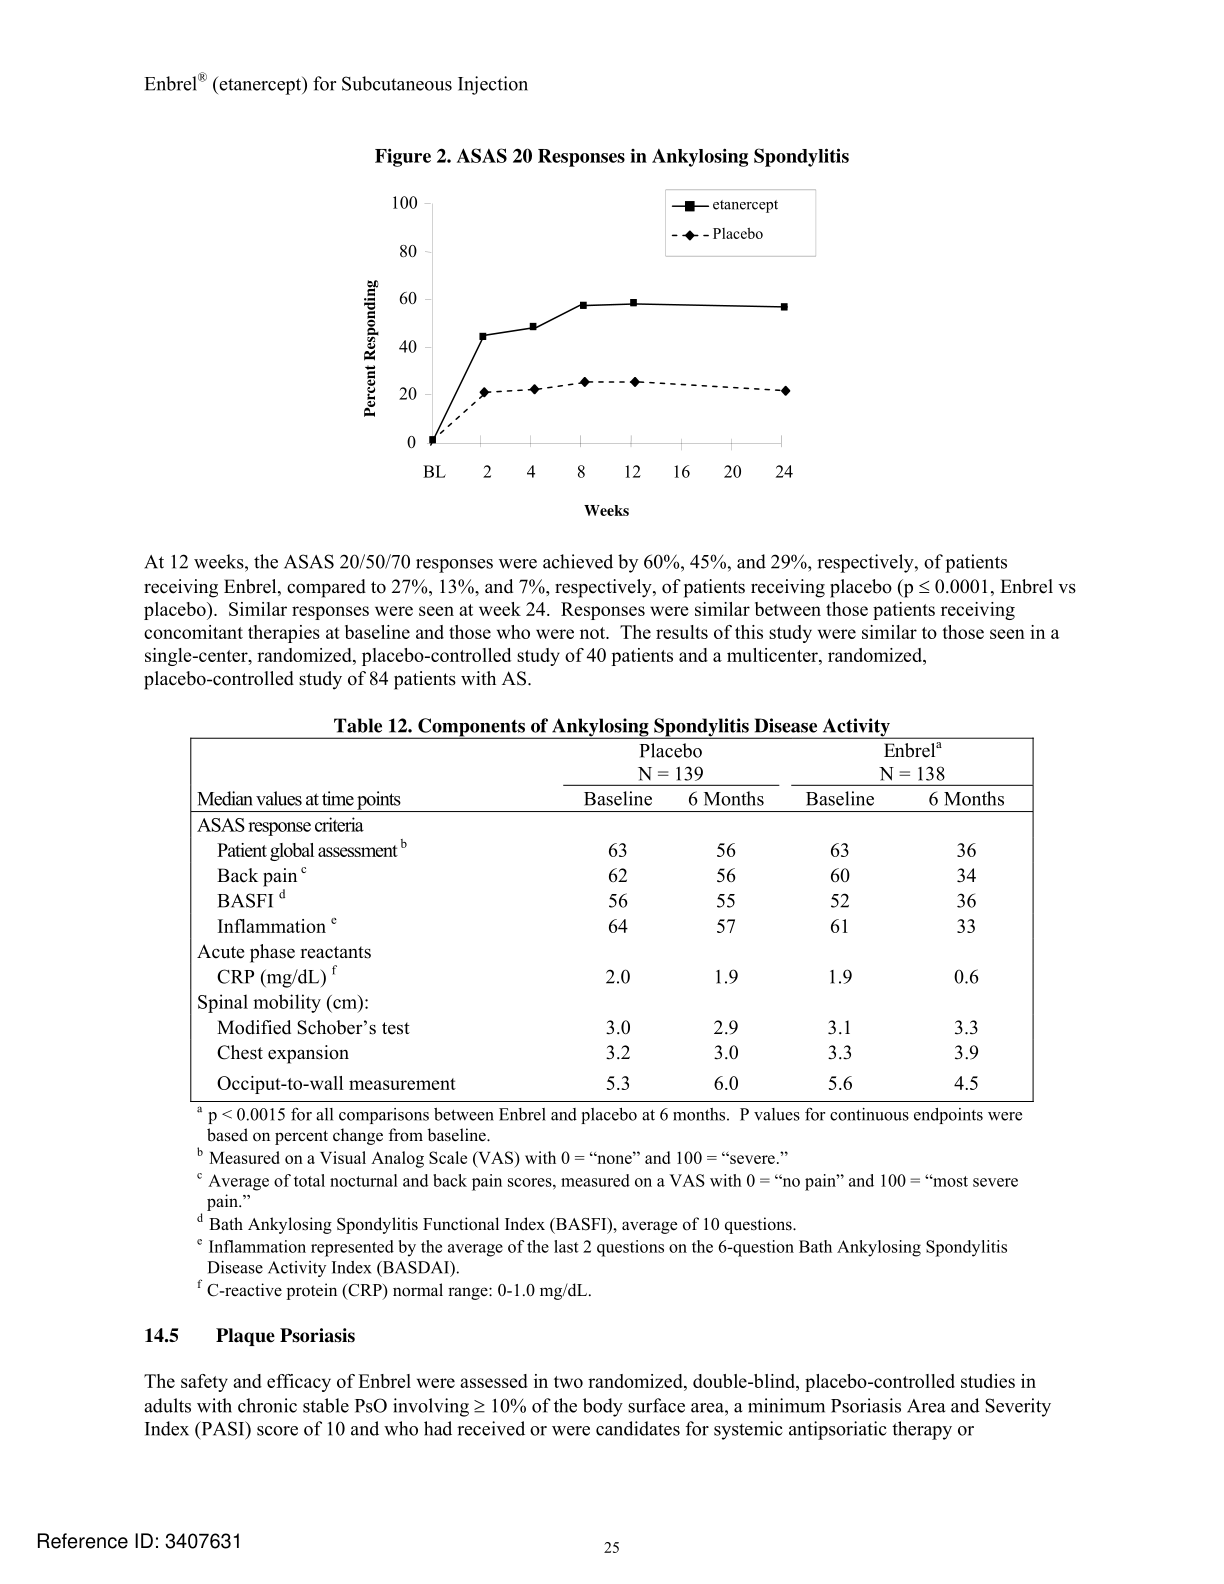partial_lined_merged_cells: (188, 734, 1038, 1103)
